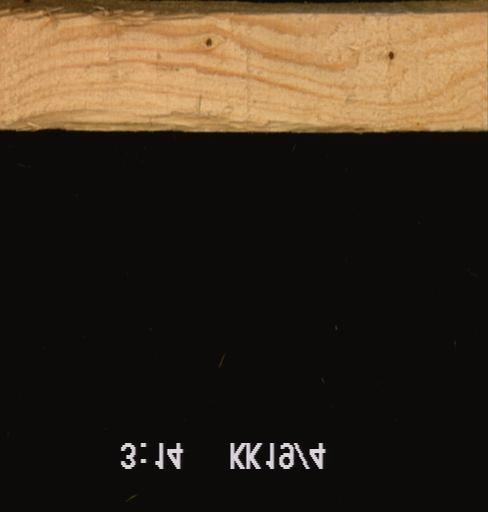small_knot: (203, 36, 213, 49), (385, 49, 395, 62)
